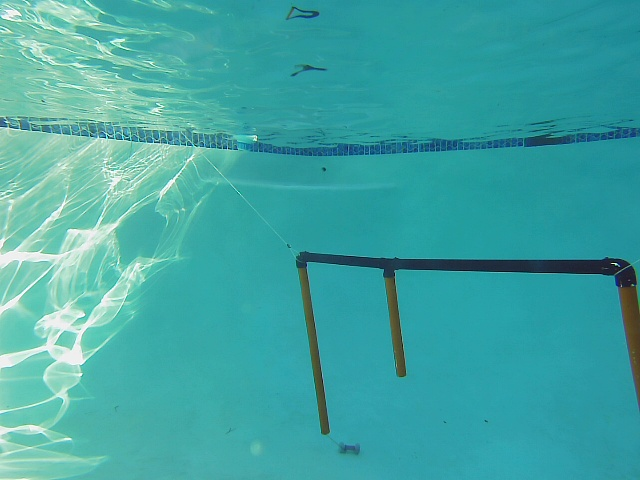Gate: (295, 258, 331, 433), (615, 283, 640, 403), (380, 272, 407, 379)
